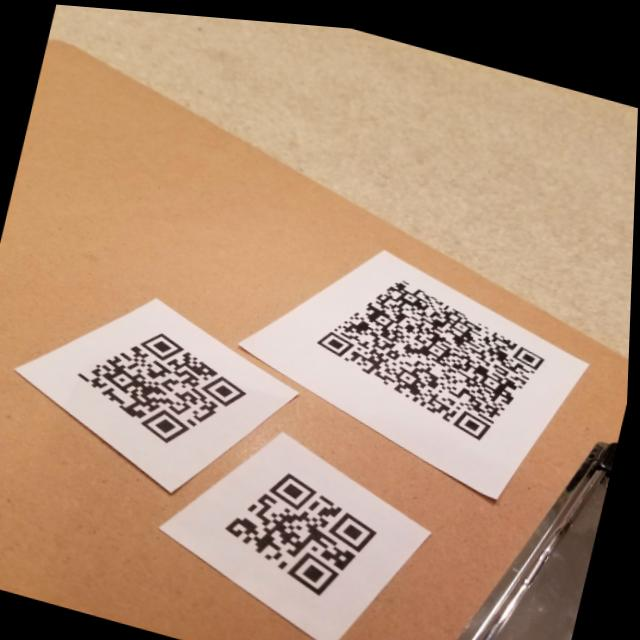QR_CODE: (296, 243, 569, 459), (60, 300, 265, 463), (211, 447, 396, 610)
